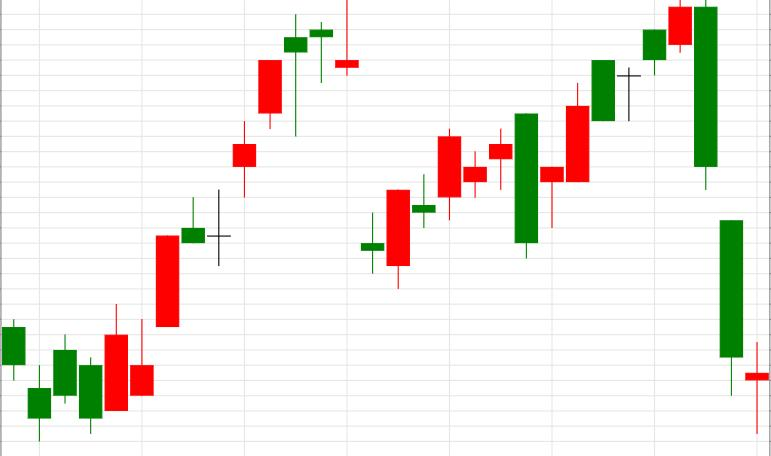bearish_engulfing_fall: (541, 0, 717, 228), (386, 114, 538, 289)
